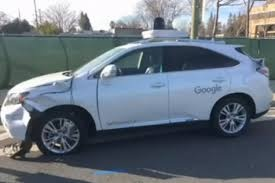Dent: (5, 81, 59, 136)
